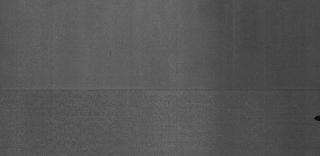punching hole: (313, 114, 319, 122)
silk spot: (42, 101, 130, 149)
welding line: (3, 85, 320, 94)
